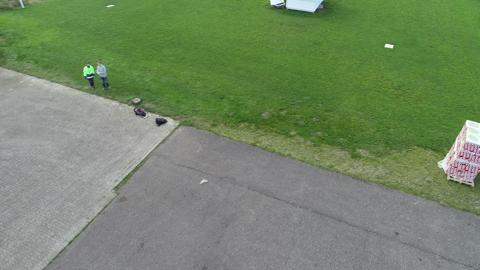RockwoolPallet: (444, 117, 479, 183)
